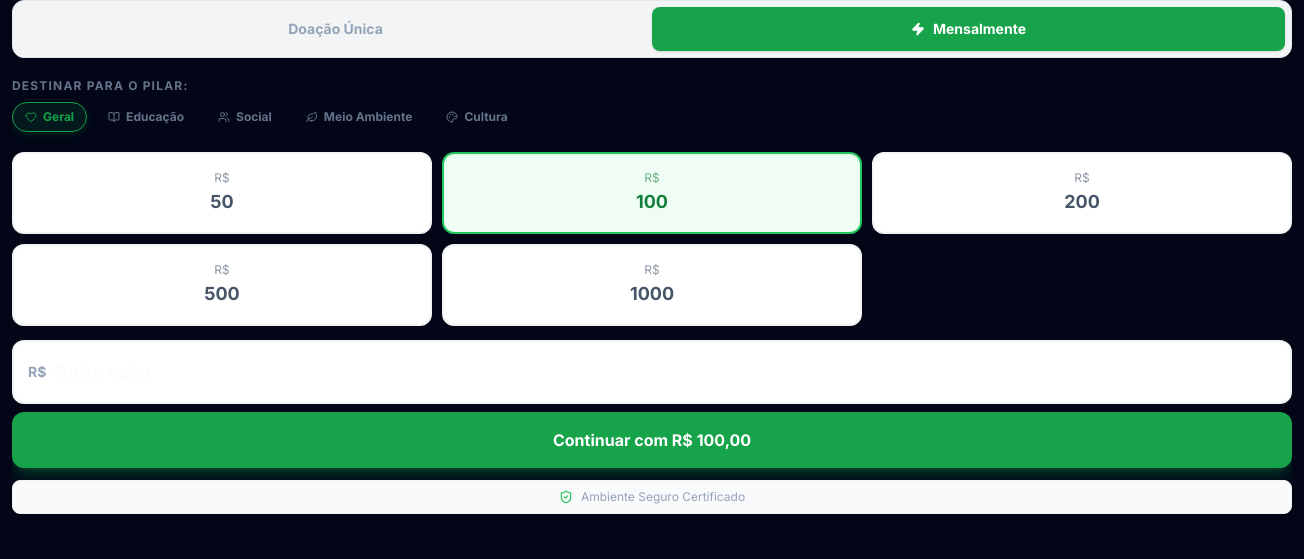
it: DonationForm — Amount Validation › shows error when custom amount below R$5
This screenshot has width=1304, height=559.
Type "3" into the number field named "valor personalizado" at [652, 372], box [12,340,1292,404]
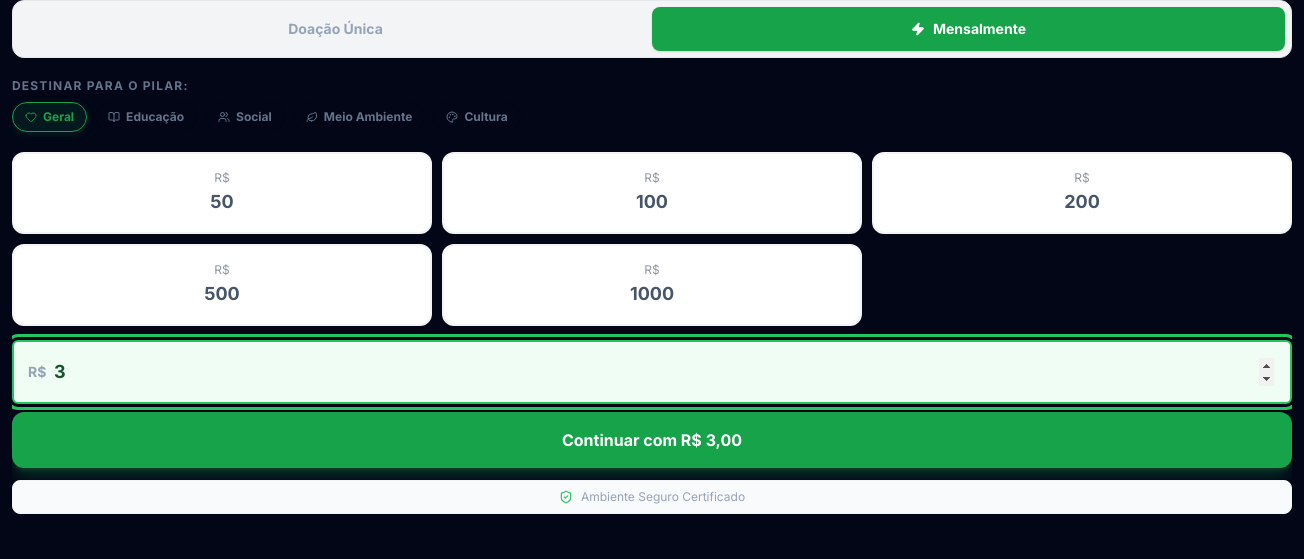
Click the button with test id "continue-btn" at [652, 440], box [12,412,1292,468]
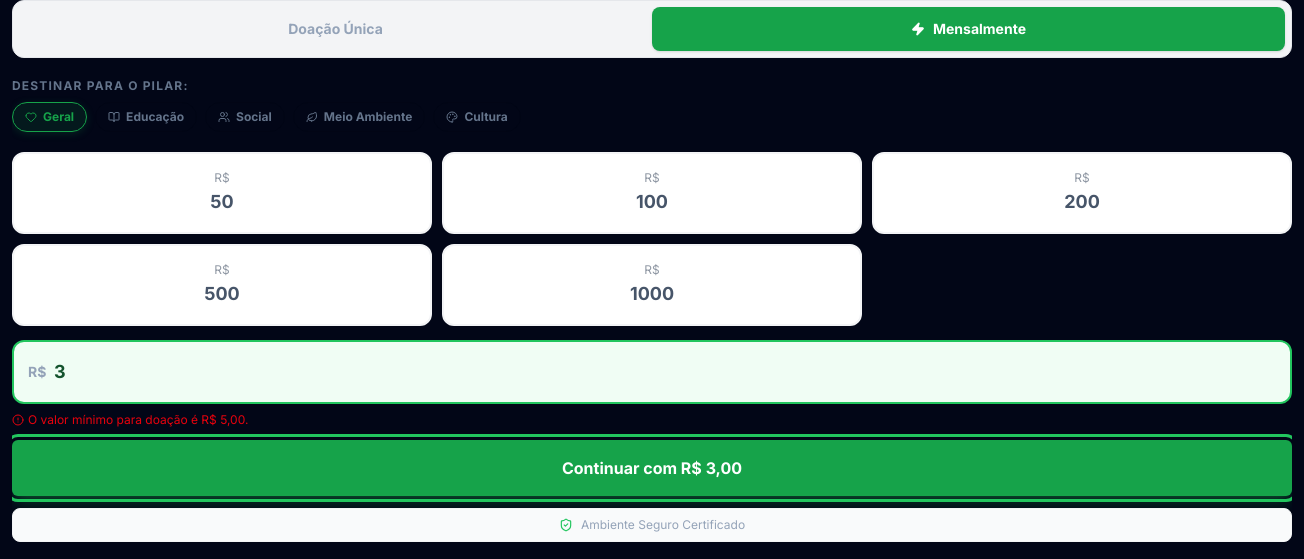
Expected: the text "O valor mínimo para doação é R$ 5,00." is shown, [12,412,248,427]
